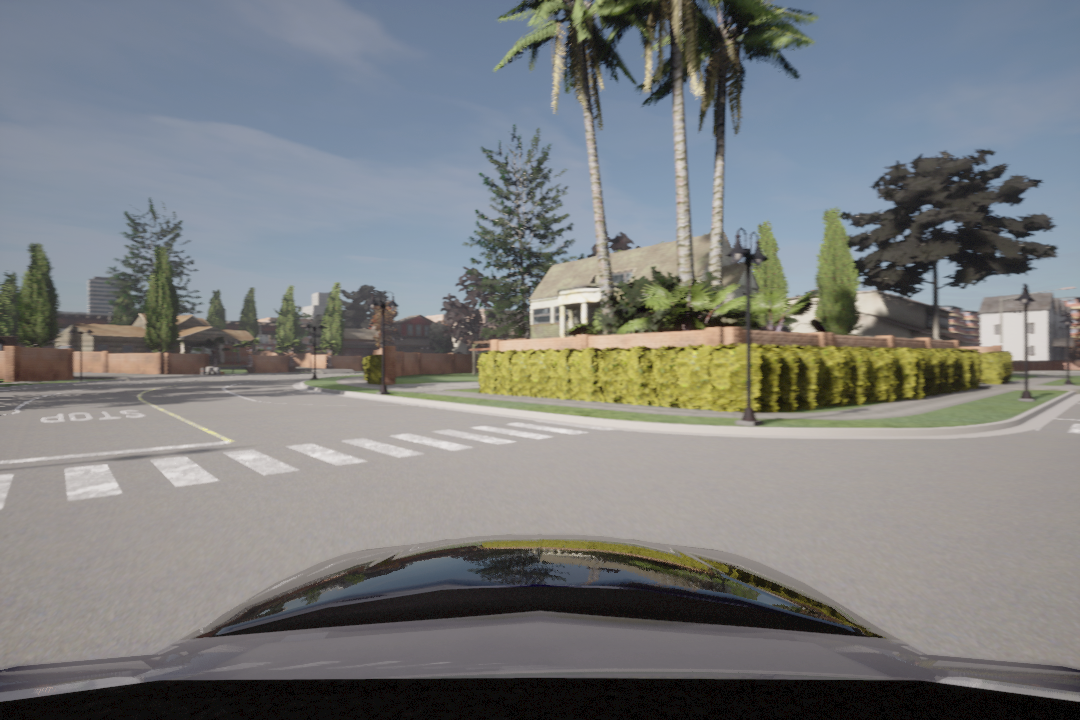walkside: (1, 421, 651, 511)
